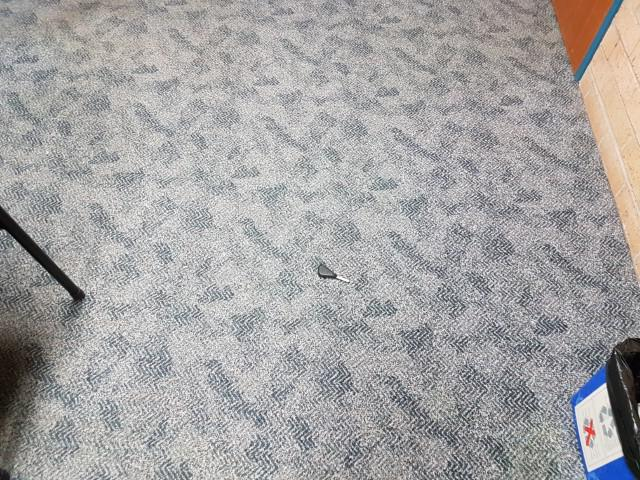key: (320, 265, 348, 283)
